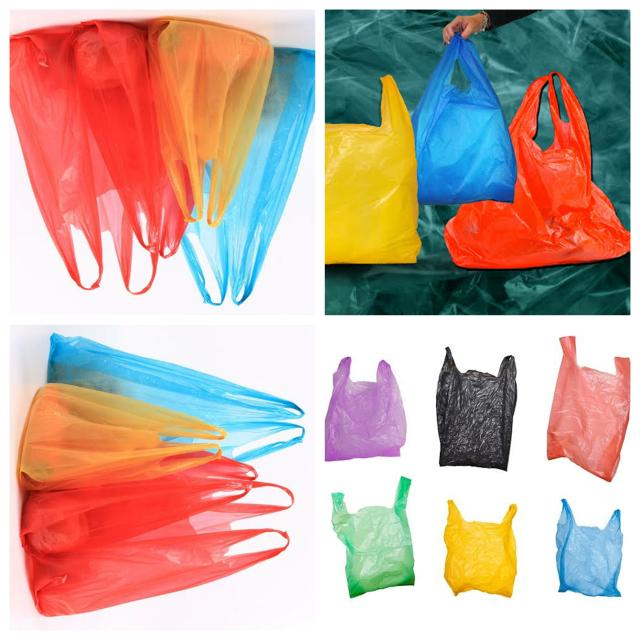Single-layer Plastic: (10, 18, 274, 294), (10, 21, 186, 294), (21, 456, 292, 616), (444, 71, 630, 269), (181, 48, 315, 305), (48, 334, 304, 462), (10, 26, 132, 290), (19, 384, 226, 491), (325, 75, 421, 264), (411, 34, 516, 205), (548, 337, 630, 481), (331, 477, 415, 598), (436, 348, 516, 470), (325, 358, 406, 461), (444, 500, 518, 597), (556, 499, 622, 596)
